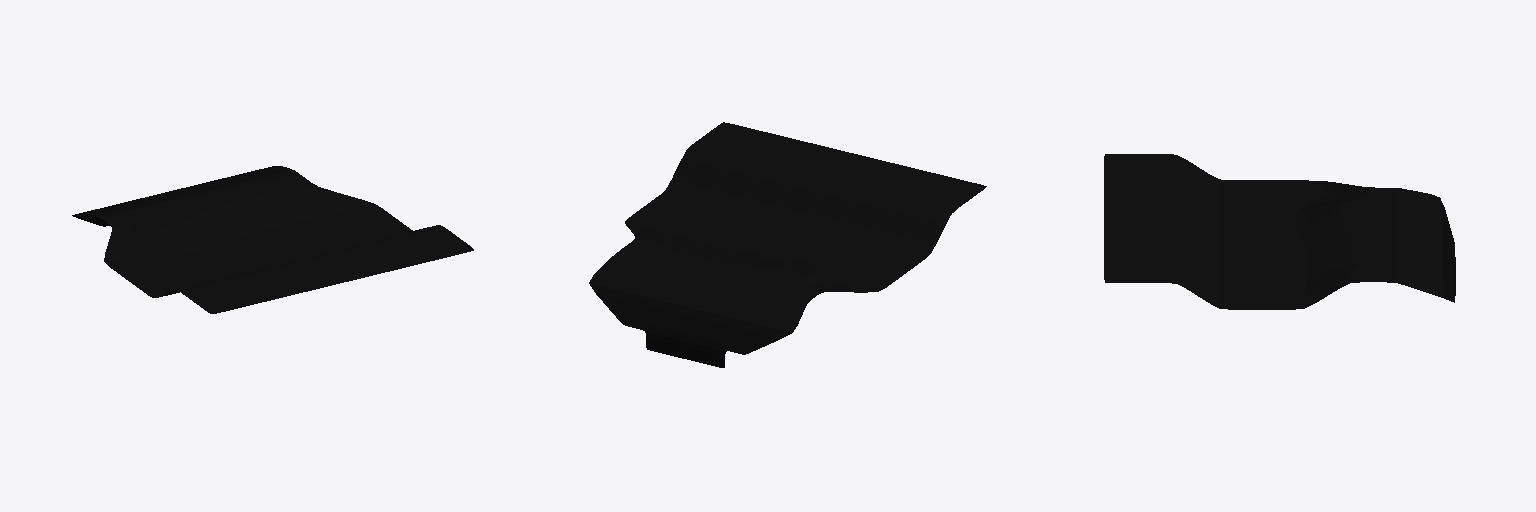
The model's file is cape2.obj.
3 renders of one model, left to right at view 1: azimuth 30°, elevation 25°; view 2: azimuth 150°, elevation 25°; view 3: azimuth 270°, elevation 25°, orthographic.
Visible parts, largest first — view 1: Cube; view 2: Cube; view 3: Cube.
Boxes of the visible parts, x1=… form: Cube: x1=72, y1=166, x2=473, y2=313; Cube: x1=589, y1=122, x2=986, y2=367; Cube: x1=1104, y1=154, x2=1455, y2=309.
Bounding box in the file's own units: 4.46 × 1.21 × 5.12.